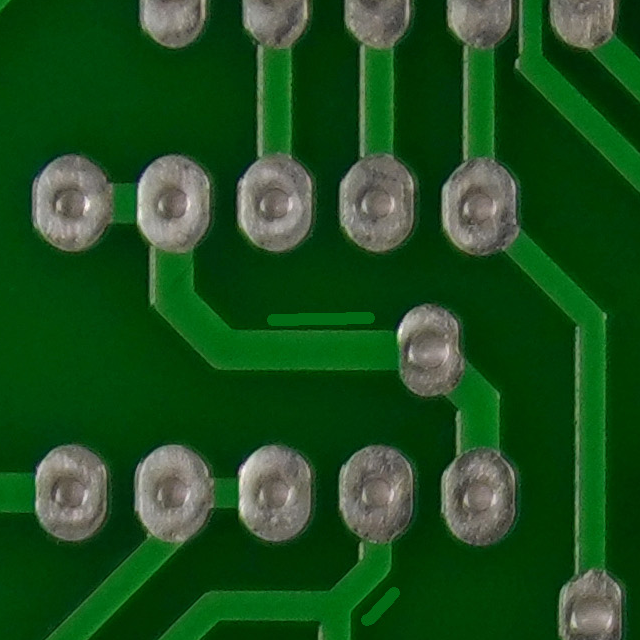spurious_copper: (257, 295, 383, 345), (351, 576, 413, 640)
